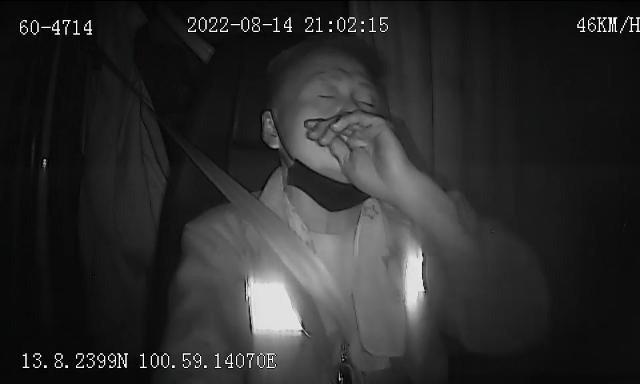Seatbelt: (198, 160, 358, 336)
